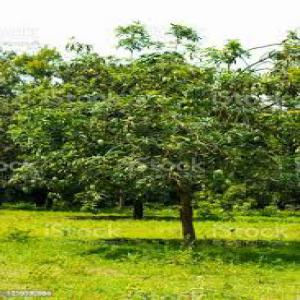Tree: (5, 19, 298, 240)
